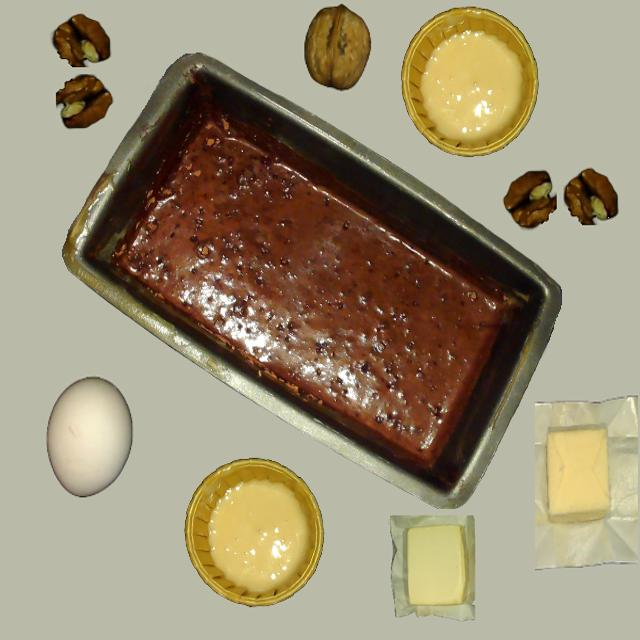Walnut: (304, 5, 372, 90)
